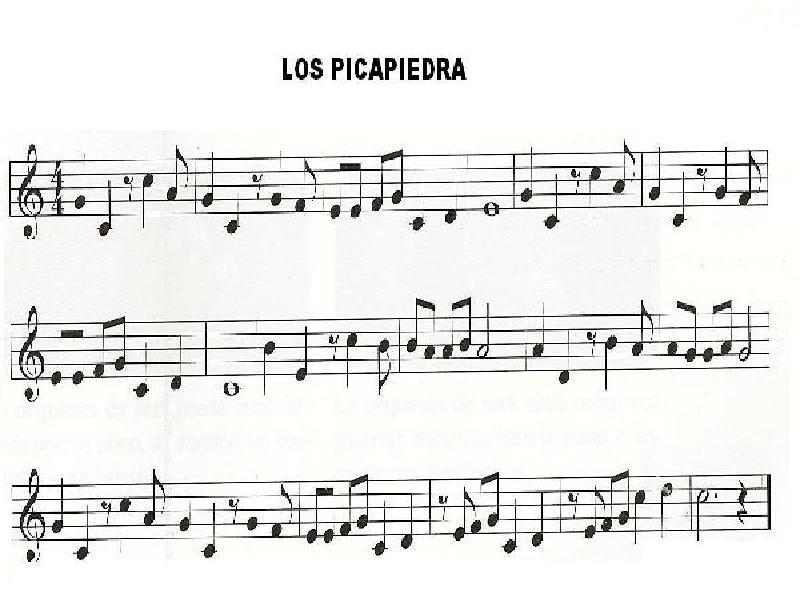B: (740, 308, 757, 362), (478, 307, 494, 362), (694, 487, 708, 546)
C: (740, 151, 763, 214), (613, 140, 636, 198), (271, 481, 294, 539), (453, 487, 476, 544), (144, 470, 167, 526), (167, 145, 189, 203), (295, 162, 317, 217), (111, 315, 129, 377), (376, 335, 394, 395), (442, 301, 460, 361), (585, 485, 605, 539), (91, 320, 107, 382), (305, 487, 321, 547), (391, 146, 406, 207), (349, 160, 364, 219), (374, 154, 388, 214), (408, 298, 423, 354), (356, 470, 369, 532), (459, 295, 473, 352), (619, 467, 632, 527), (603, 473, 615, 531)
CS: (17, 143, 44, 240), (20, 468, 46, 563), (19, 306, 44, 404)
N: (632, 302, 655, 358), (292, 326, 314, 383), (95, 178, 116, 236), (134, 343, 153, 403), (261, 333, 278, 397), (657, 478, 674, 542), (601, 333, 618, 392), (400, 492, 416, 552), (140, 174, 156, 233), (488, 469, 504, 528), (713, 145, 729, 203), (531, 301, 547, 359), (720, 301, 736, 358), (530, 489, 546, 546), (75, 505, 91, 562), (52, 478, 68, 535), (545, 174, 560, 232), (344, 332, 358, 393), (504, 503, 520, 556), (203, 504, 218, 560), (522, 146, 536, 205), (650, 148, 664, 206), (374, 500, 388, 557), (633, 488, 646, 549), (686, 302, 698, 365), (201, 152, 214, 210), (225, 192, 242, 234), (585, 167, 603, 204)
R: (483, 198, 501, 222), (219, 379, 241, 398)
SN: (735, 480, 750, 527)
